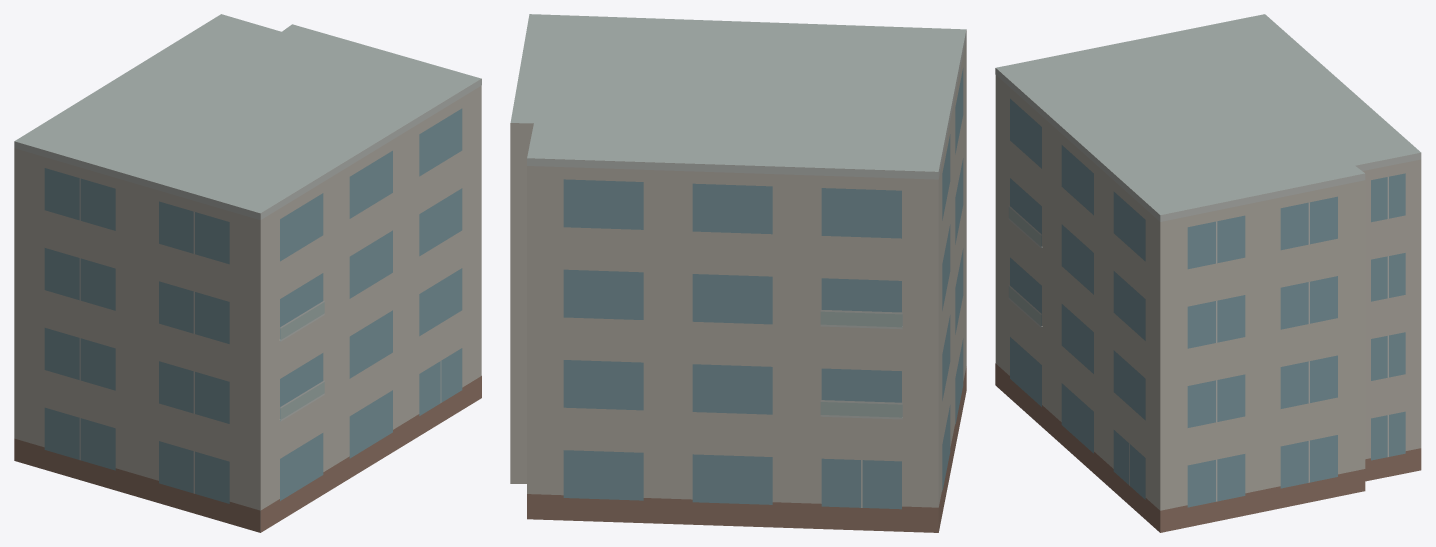
The model's file is survey-upis-32753983.glb.
The picture shows the model from 3 angles, left to right: view 1: azimuth 30°, elevation 25°; view 2: azimuth 150°, elevation 25°; view 3: azimuth 270°, elevation 25°; orthographic projection. The views are drawn at different scales.
Parts seen in each view (by area): view 1: survey-upis-32753983.tmp; view 2: survey-upis-32753983.tmp; view 3: survey-upis-32753983.tmp.
Part boxes in pixels (<box>): survey-upis-32753983.tmp: <box>14,14,481,532</box>; survey-upis-32753983.tmp: <box>510,14,966,532</box>; survey-upis-32753983.tmp: <box>995,14,1421,532</box>.
Size of the model in its own units: 15.5 by 11.4 by 13.86.
